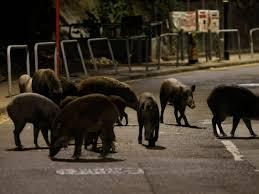wildboar: (48, 94, 119, 159), (5, 91, 61, 149), (159, 77, 196, 127), (136, 90, 160, 148)
